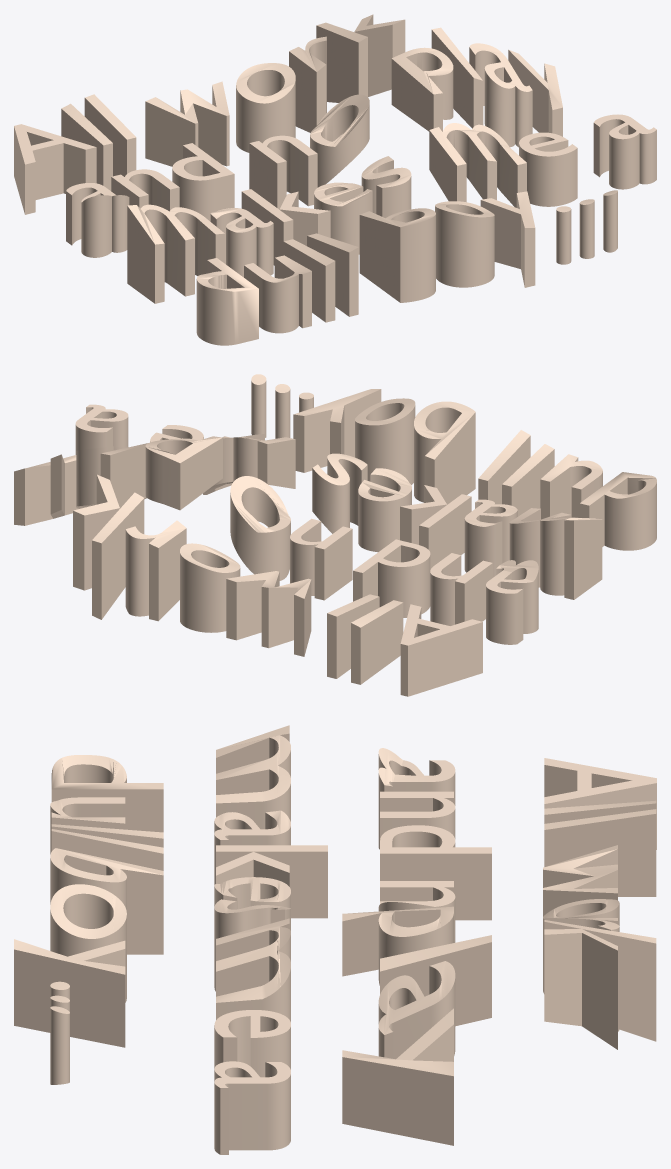
Rendered from DullBoy4.gltf.
3 renders of one model, top to bottom at view 1: azimuth 30°, elevation 25°; view 2: azimuth 150°, elevation 25°; view 3: azimuth 270°, elevation 25°, orthographic. The views are drawn at different scales.
Visible parts, largest first — view 1: Text; view 2: Text; view 3: Text.
Boxes of the visible parts, bbox=[...] form: Text: bbox=[14, 14, 656, 345]; Text: bbox=[14, 374, 656, 696]; Text: bbox=[14, 725, 656, 1154].
Bounding box in the file's own units: 4.76 × 0.9421 × 3.92.
